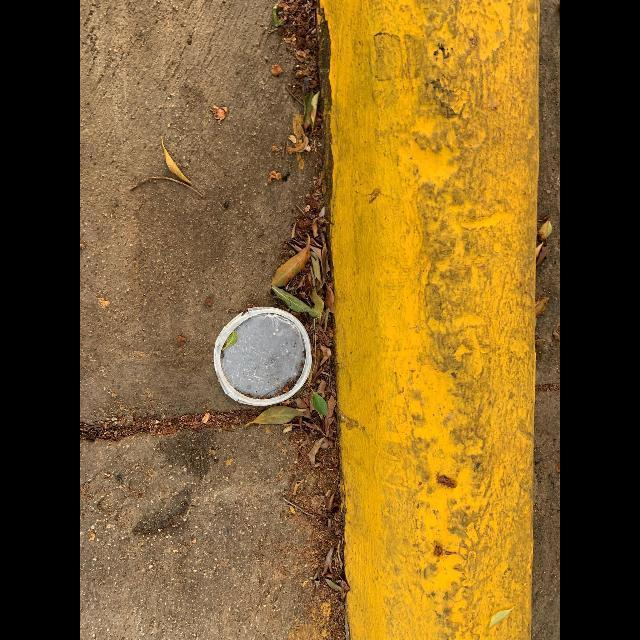Plastic: (214, 306, 312, 406)
